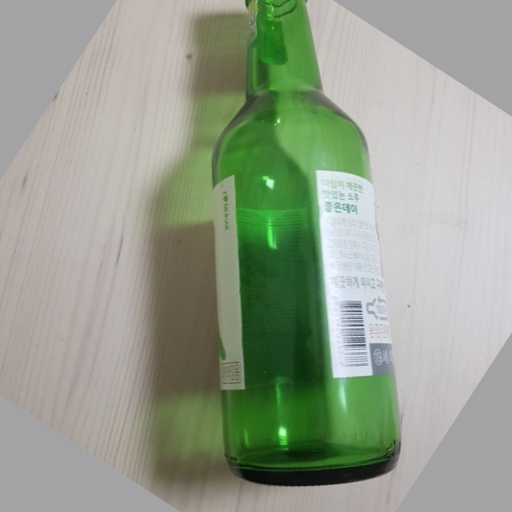Glass_0: (199, 2, 404, 487)
